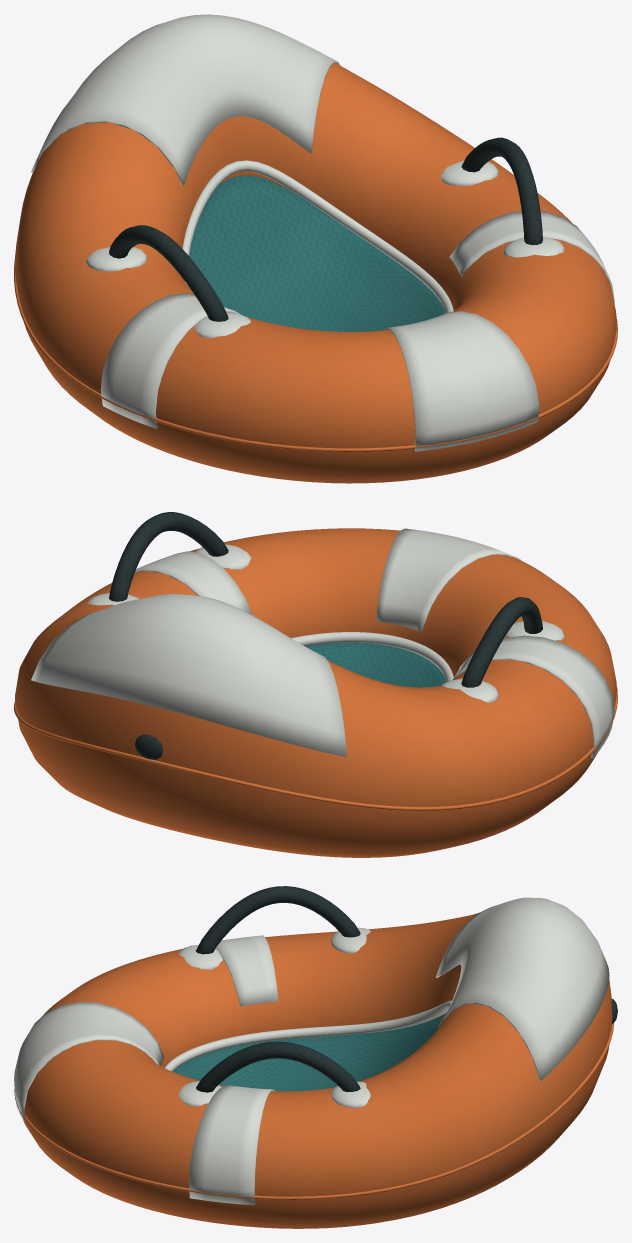
File: Group6LeisureFloat_r001.glb
3 views of the same model, one above another, from view 1: azimuth 30°, elevation 25°; view 2: azimuth 150°, elevation 25°; view 3: azimuth 270°, elevation 25° (orthographic). The views are drawn at different scales.
Visible parts, largest first — view 1: AST-AQU-006__aquatic_orange_float, AST-AQU-006__aquatic_pearl_float, AST-AQU-006__aquatic_teal_sling, AST-AQU-006__aquatic_dark_grip; view 2: AST-AQU-006__aquatic_orange_float, AST-AQU-006__aquatic_pearl_float, AST-AQU-006__aquatic_dark_grip, AST-AQU-006__aquatic_teal_sling; view 3: AST-AQU-006__aquatic_orange_float, AST-AQU-006__aquatic_pearl_float, AST-AQU-006__aquatic_teal_sling, AST-AQU-006__aquatic_dark_grip.
Boxes of the visible parts, x1,y1,x2,y2 form: AST-AQU-006__aquatic_orange_float: (14, 62, 617, 483); AST-AQU-006__aquatic_pearl_float: (31, 14, 614, 451); AST-AQU-006__aquatic_teal_sling: (189, 175, 445, 331); AST-AQU-006__aquatic_dark_grip: (109, 137, 542, 321); AST-AQU-006__aquatic_orange_float: (14, 528, 617, 857); AST-AQU-006__aquatic_pearl_float: (31, 528, 614, 758); AST-AQU-006__aquatic_dark_grip: (109, 512, 542, 759); AST-AQU-006__aquatic_teal_sling: (305, 642, 446, 687); AST-AQU-006__aquatic_orange_float: (14, 912, 613, 1228); AST-AQU-006__aquatic_pearl_float: (14, 897, 609, 1205); AST-AQU-006__aquatic_teal_sling: (173, 1015, 444, 1091); AST-AQU-006__aquatic_dark_grip: (196, 886, 617, 1092).
Size of the model in its own units: 1.42 by 0.7057 by 1.64.
4 materials, 4 textured.
